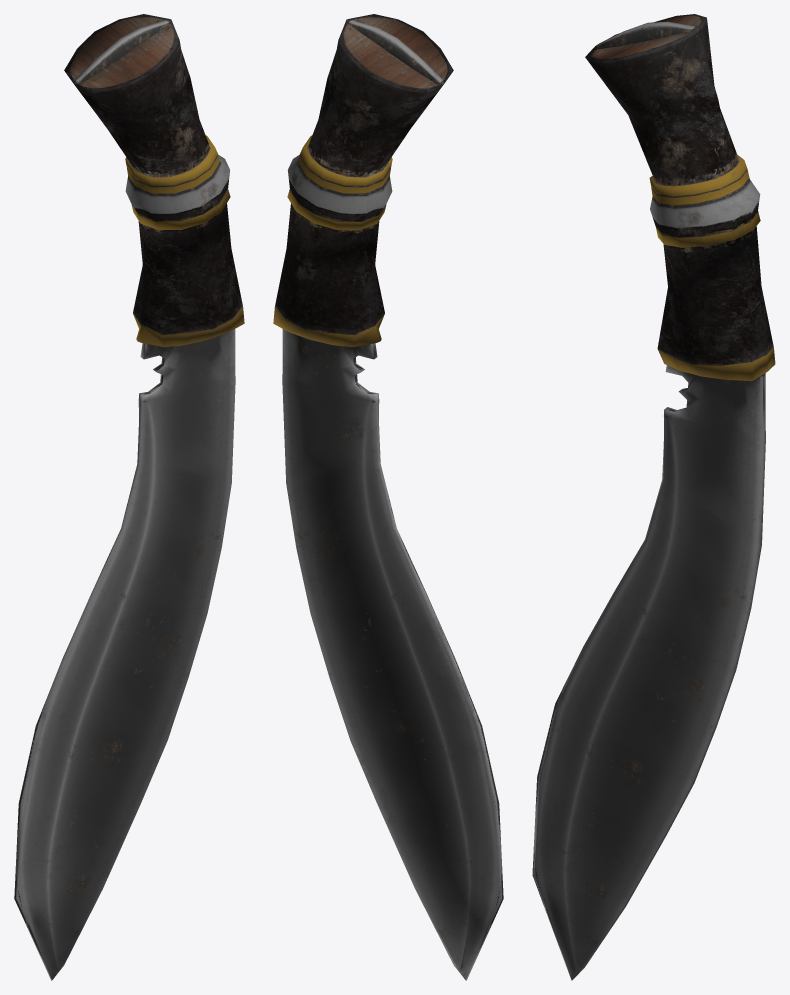
Rendered from kukri.fbx.
3 renders of one model, left to right at view 1: azimuth 30°, elevation 25°; view 2: azimuth 150°, elevation 25°; view 3: azimuth 330°, elevation 25°, orthographic. The views are drawn at different scales.
Parts seen in each view (by area): view 1: PF2_WPN_Kukri_Mesh.001, PF2_WPN_Kukri_GripZone_Mesh; view 2: PF2_WPN_Kukri_Mesh.001, PF2_WPN_Kukri_GripZone_Mesh; view 3: PF2_WPN_Kukri_Mesh.001, PF2_WPN_Kukri_GripZone_Mesh.
Boxes of the visible parts, x1,y1,x2,y2 form: PF2_WPN_Kukri_Mesh.001: (14,19,235,980); PF2_WPN_Kukri_GripZone_Mesh: (64,14,244,347); PF2_WPN_Kukri_Mesh.001: (282,19,503,980); PF2_WPN_Kukri_GripZone_Mesh: (273,14,453,347); PF2_WPN_Kukri_Mesh.001: (532,21,765,980); PF2_WPN_Kukri_GripZone_Mesh: (585,14,775,381).
Bounding box in the file's own units: 0.1426 × 0.57 × 0.0621.
